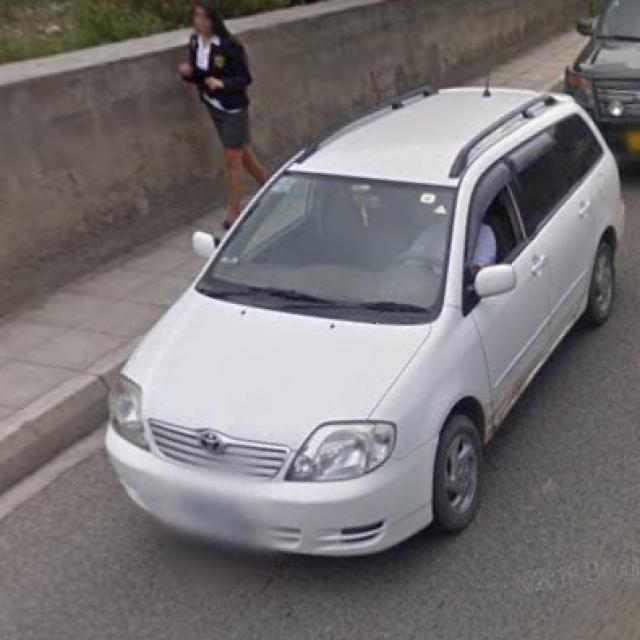cars: (112, 92, 634, 566)
